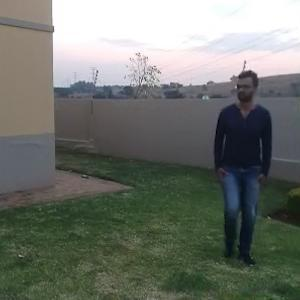follow: (207, 66, 260, 253)
